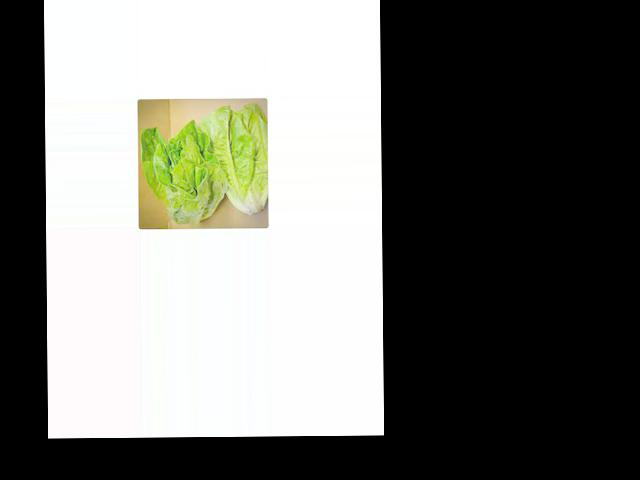lettuce: (156, 112, 264, 213)
